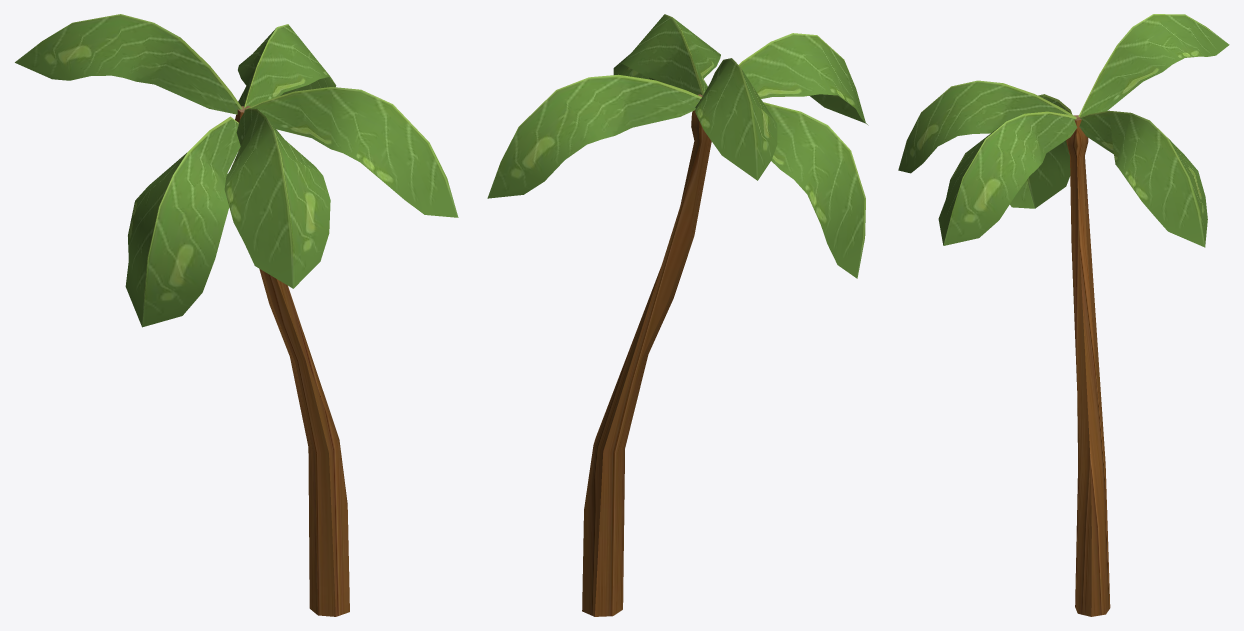
The model's file is decorLarge-harbor-81.glb.
The picture shows the model from 3 angles, left to right: view 1: azimuth 30°, elevation 25°; view 2: azimuth 150°, elevation 25°; view 3: azimuth 270°, elevation 25°; orthographic projection. The views are drawn at different scales.
Parts seen in each view (by area): view 1: piece; view 2: piece; view 3: piece.
Boxes of the visible parts, bbox=[...] form: piece: bbox=[15, 14, 458, 616]; piece: bbox=[487, 14, 868, 616]; piece: bbox=[898, 14, 1229, 616].
Bounding box in the file's own units: 1.59 × 3.25 × 1.87.
Materials: 1 (1 with a texture image).
